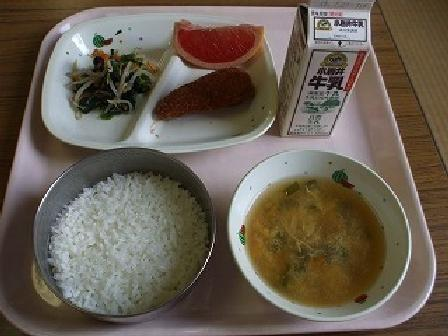Citrus: (161, 12, 273, 68)
Milk: (273, 1, 378, 139)
Rice: (32, 154, 219, 323)
Salad: (58, 42, 149, 121)
Soups: (236, 158, 411, 308)
cutlet: (148, 62, 261, 136)
